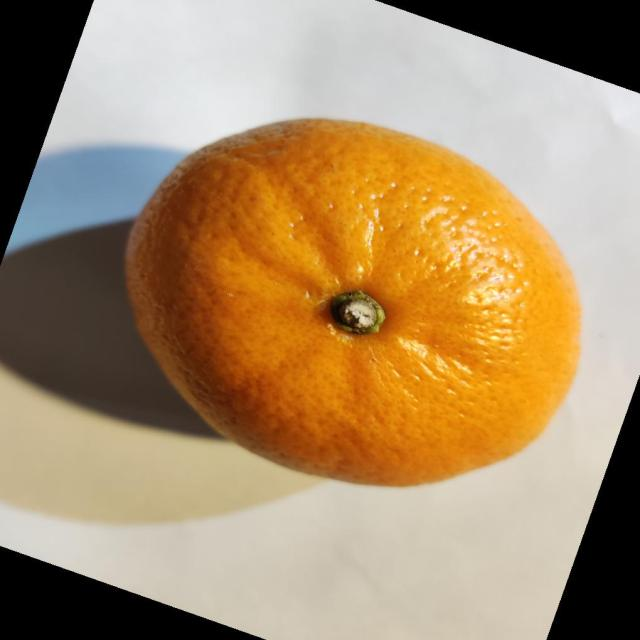fresh orange: (123, 116, 582, 488)
